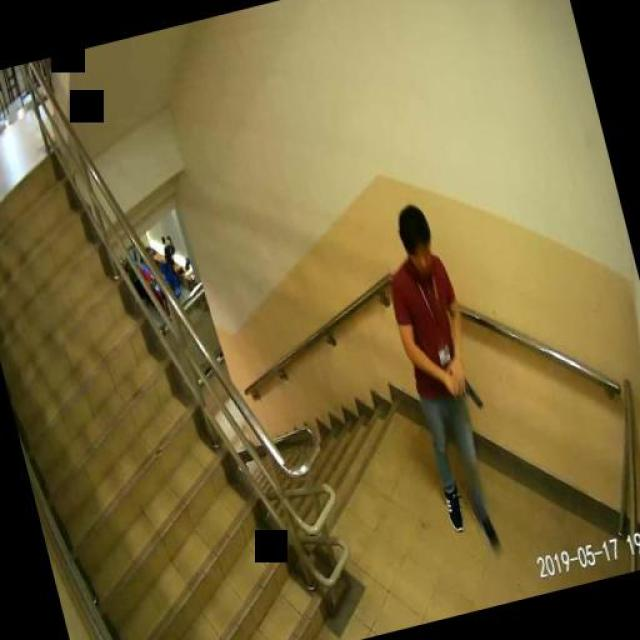gun: (444, 361, 480, 409)
